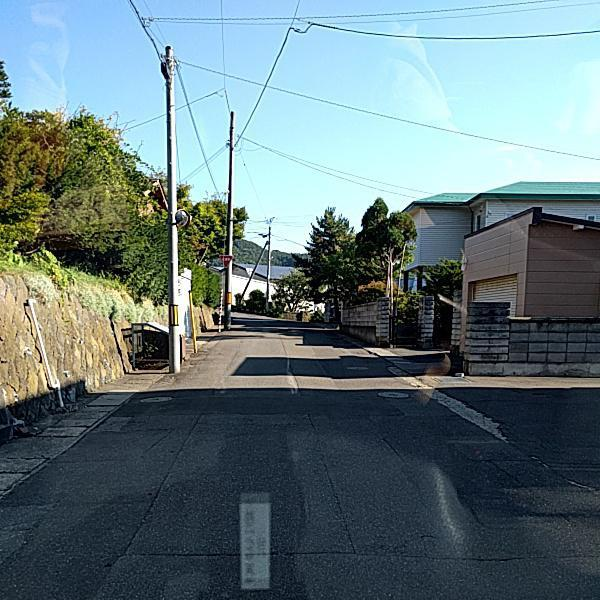D10: (133, 537, 357, 561), (371, 542, 598, 559)
D50: (137, 393, 173, 401), (376, 389, 409, 396)
